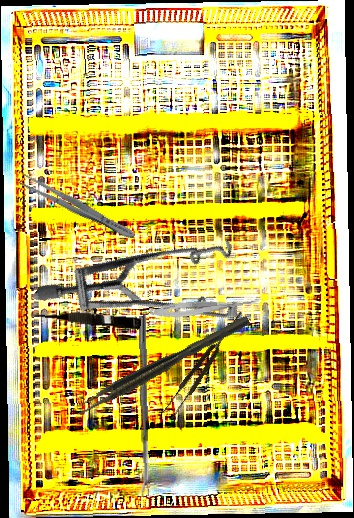Dressing Forceps: (17, 171, 139, 244)
Micro Scissor: (149, 292, 264, 321), (29, 306, 142, 330)
Speculum: (32, 170, 267, 389)
Surgical Spoon: (137, 315, 150, 497)
Tissue Forceps: (73, 315, 254, 417), (160, 307, 249, 421)
